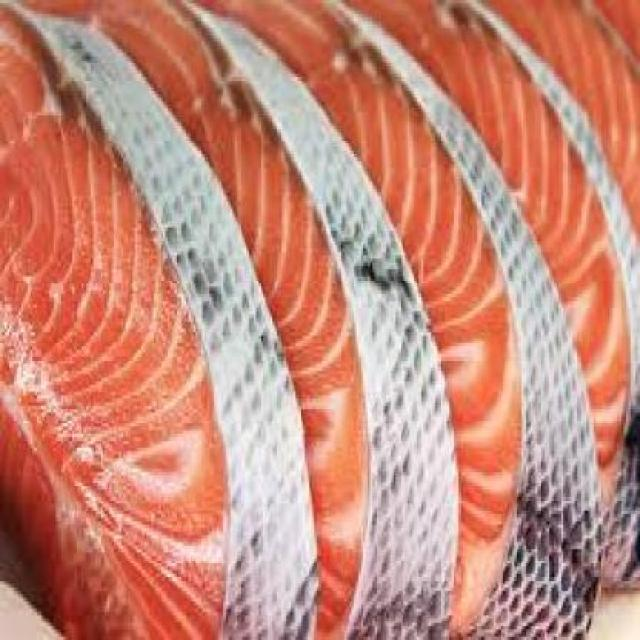salmon: (31, 4, 457, 634), (151, 4, 577, 634), (214, 4, 640, 634), (3, 3, 325, 639)
